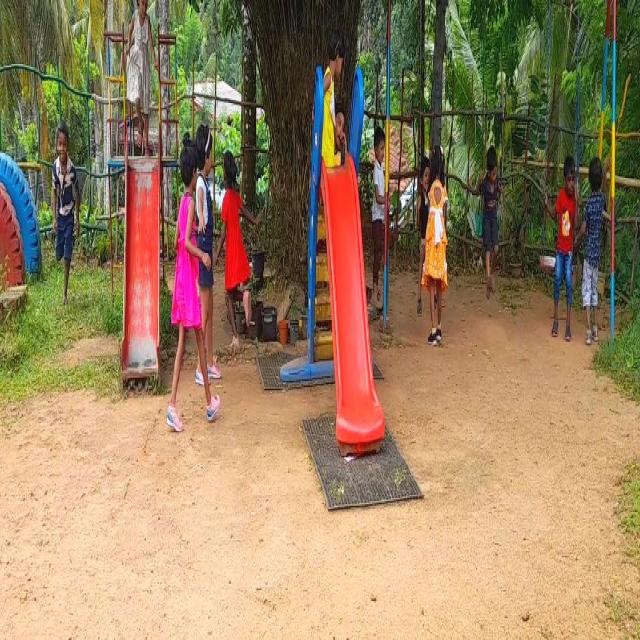child: (170, 126, 203, 410), (216, 137, 253, 355), (50, 94, 83, 313), (545, 142, 576, 347), (583, 139, 610, 353), (122, 0, 154, 165), (424, 147, 450, 349), (477, 121, 503, 313), (315, 27, 348, 176)
